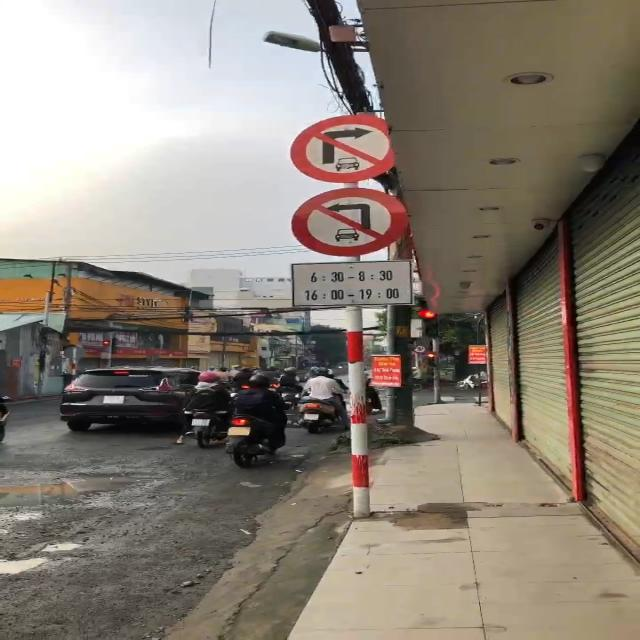Bien bao cam xe o to re phai: (289, 114, 417, 184)
Bien bao cam xe o to re trai: (284, 186, 413, 262)
